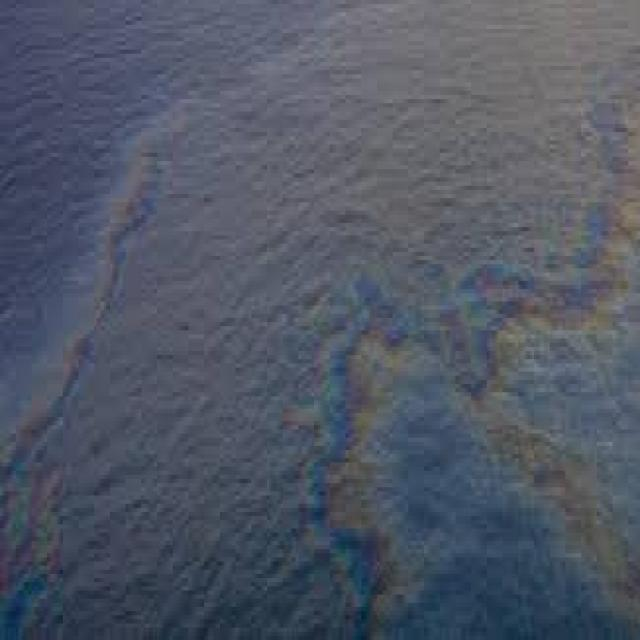rainbow: (316, 211, 640, 638), (0, 462, 49, 638)
